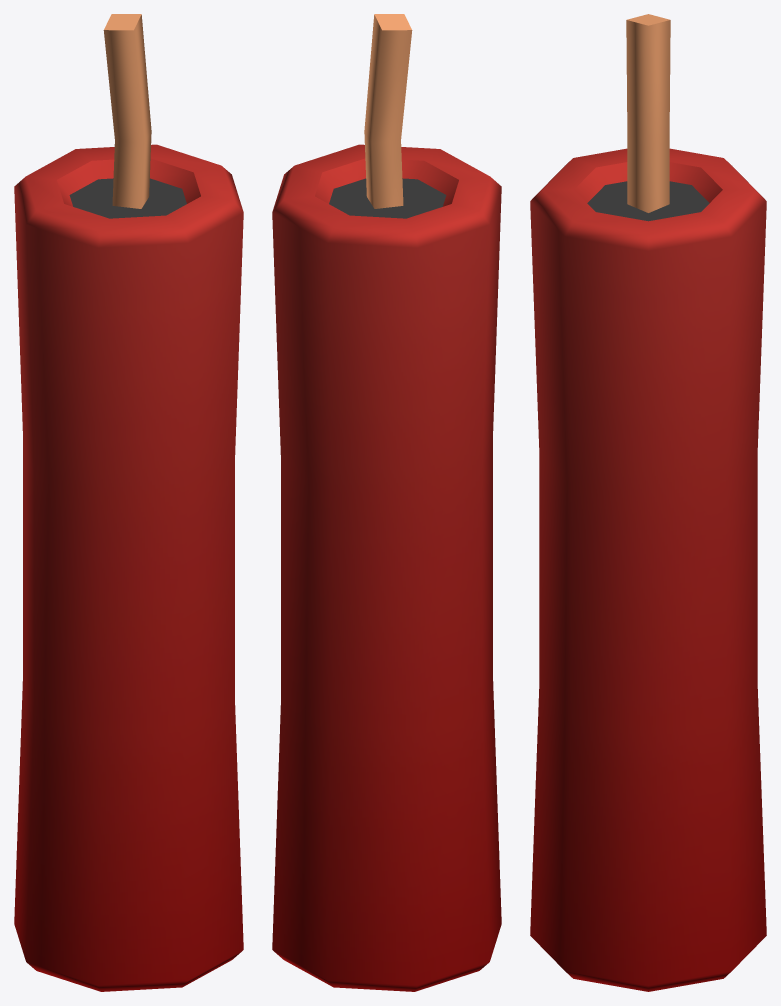
The model's file is dynamite_001.glb.
The picture shows the model from 3 angles, left to right: view 1: azimuth 30°, elevation 25°; view 2: azimuth 150°, elevation 25°; view 3: azimuth 270°, elevation 25°; orthographic projection.
Parts seen in each view (by area): view 1: dynamite_001; view 2: dynamite_001; view 3: dynamite_001.
Part boxes in pixels (x1,y1,x2,y2): dynamite_001: (14,14,243,991); dynamite_001: (272,14,501,991); dynamite_001: (530,14,766,991).
Size of the model in its own units: 0.2408 by 1.04 by 0.2408.
Materials: 1 (1 with a texture image).
